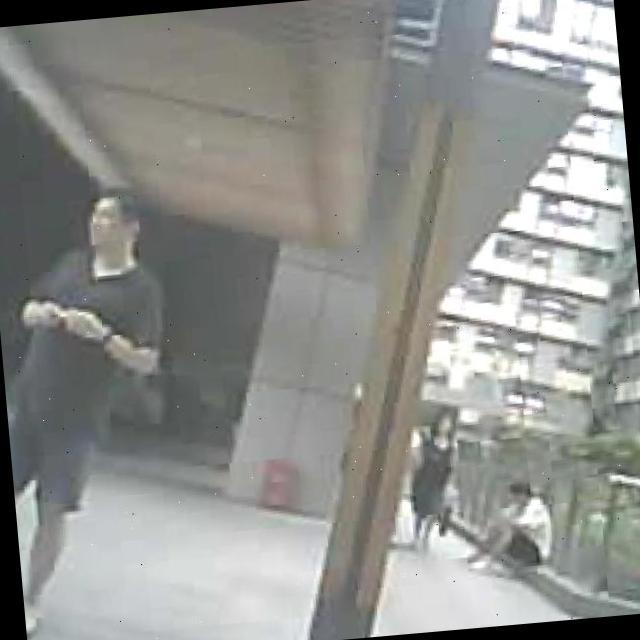person: (0, 191, 194, 640), (398, 406, 466, 554), (462, 480, 554, 576)
